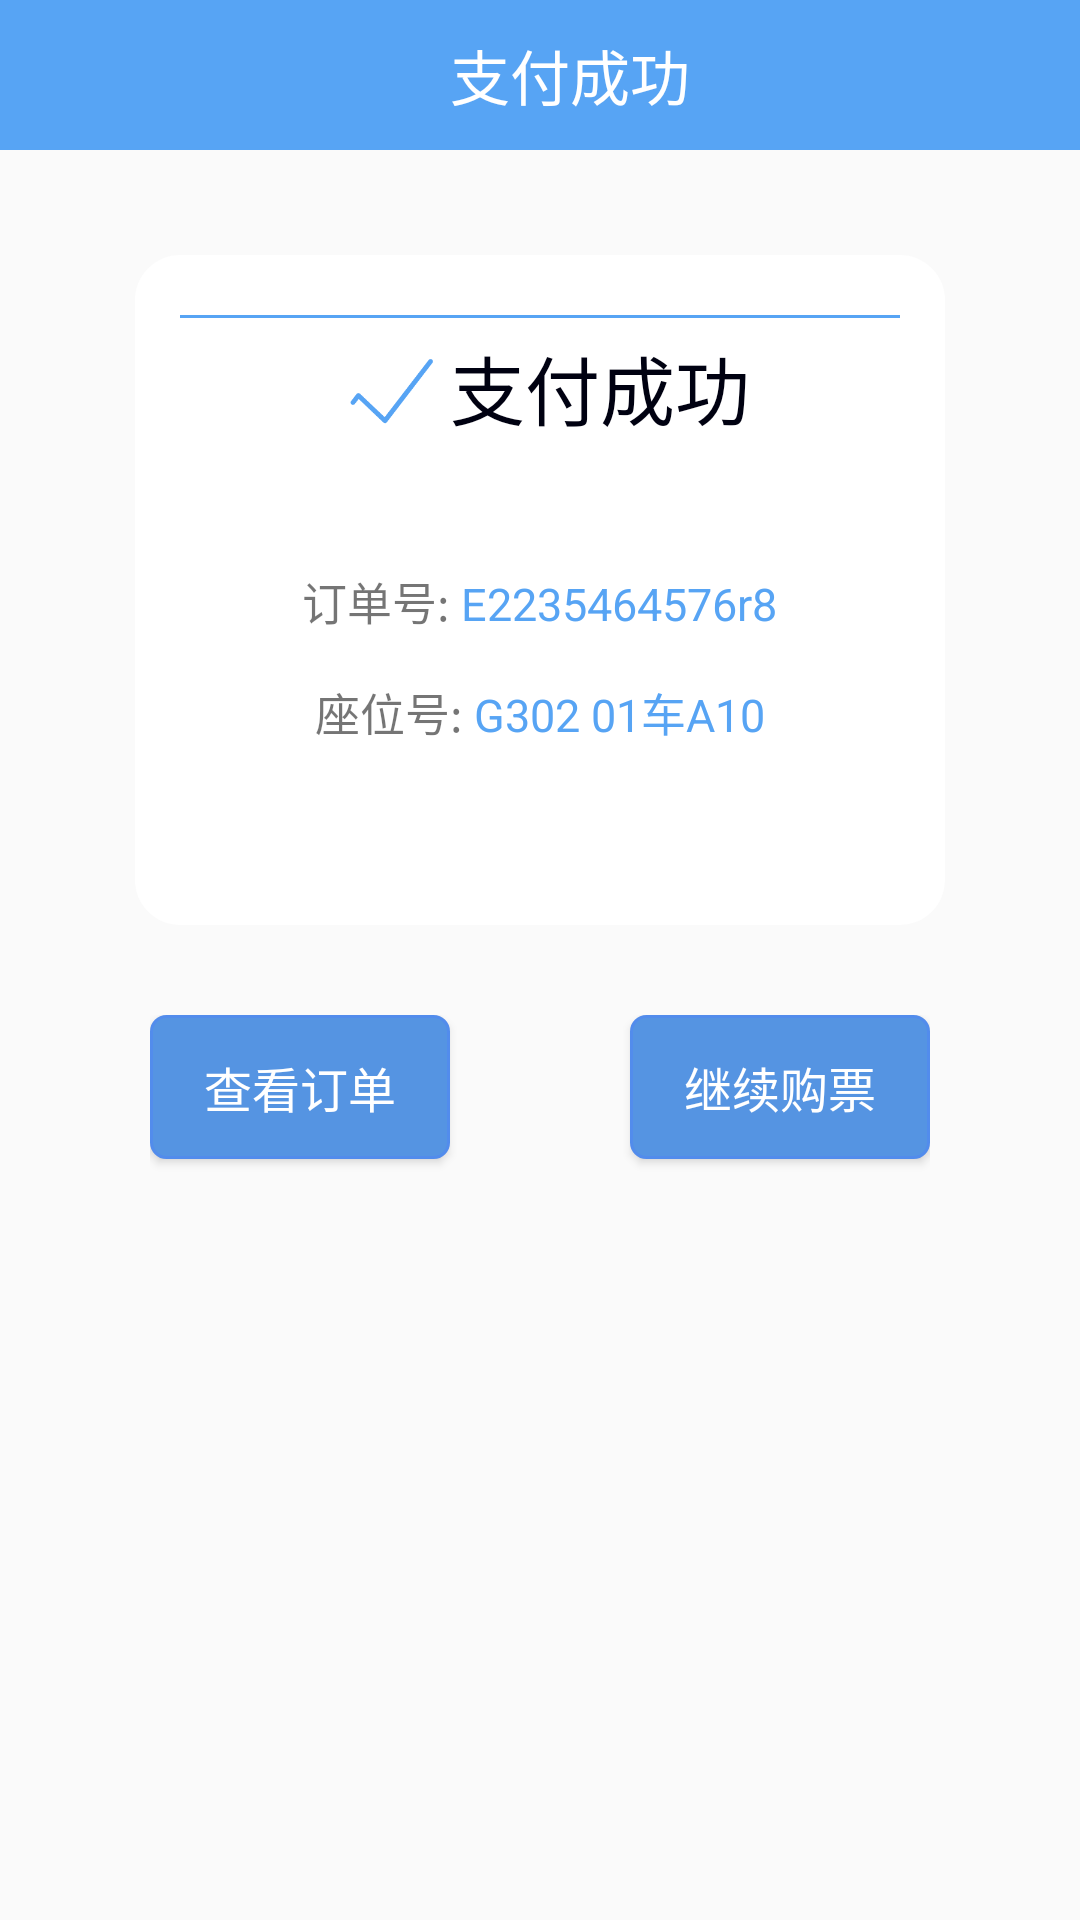

Icon click points for this 1080px x 1920px phone screenshot, format (x,y):
check: (391,391)
